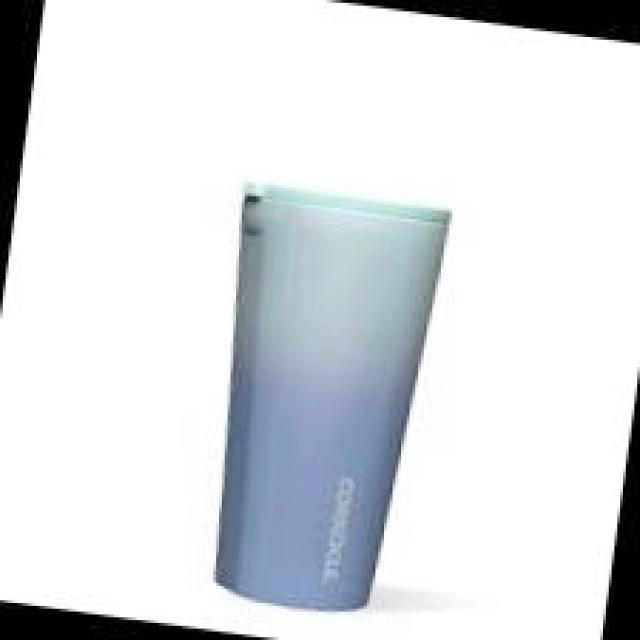bottle: (176, 166, 461, 624)
